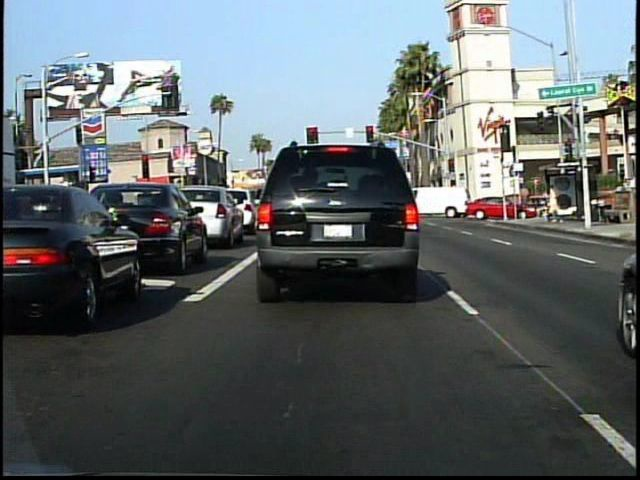person: (543, 182, 562, 228)
